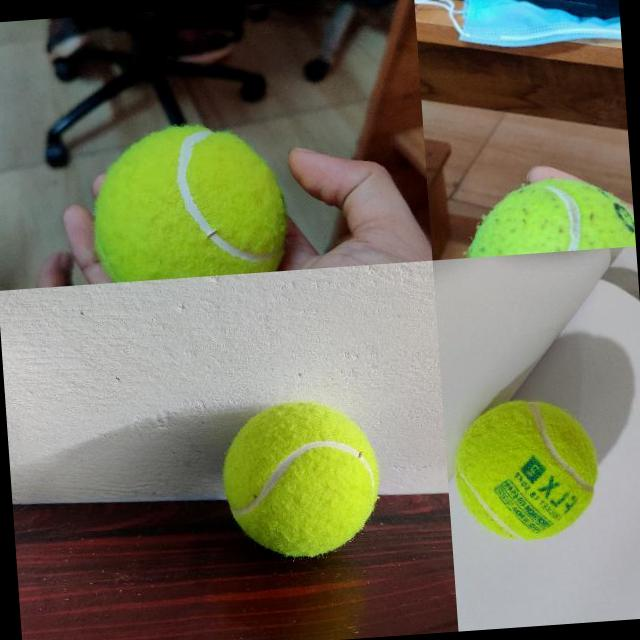Tennis Ball: (88, 120, 290, 282), (217, 395, 384, 562), (447, 393, 604, 545), (457, 173, 636, 257)
